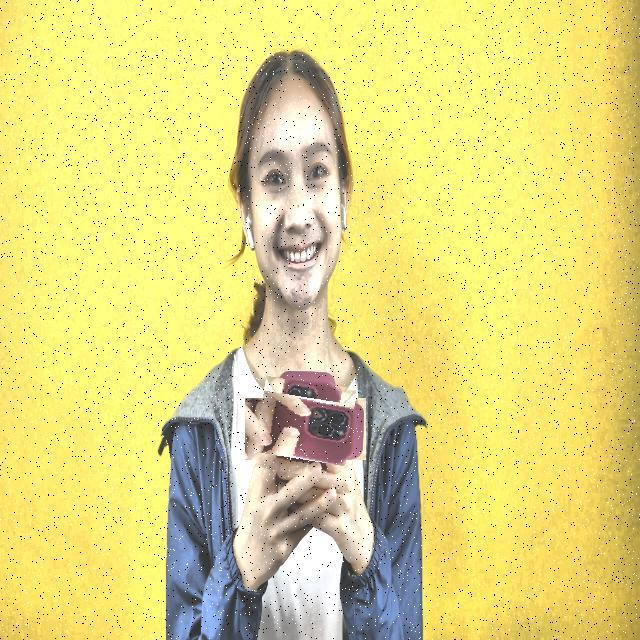Phone: (256, 379, 354, 478)
